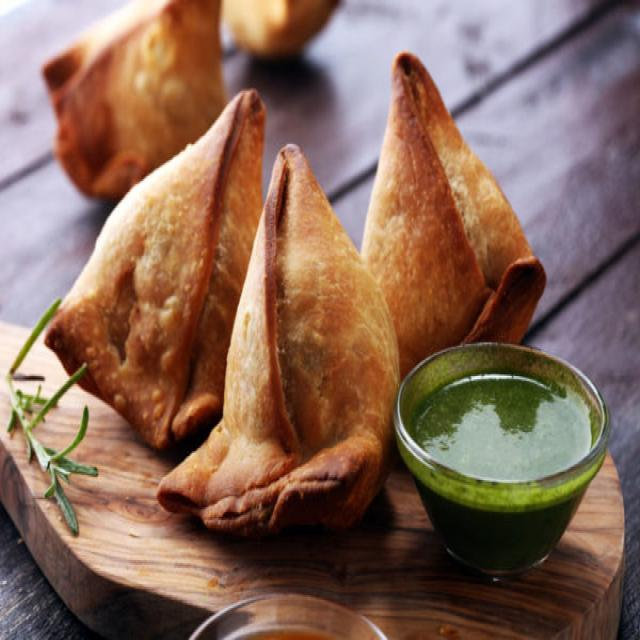SAMOSA: (151, 142, 401, 552), (53, 91, 268, 472), (360, 58, 548, 372)
